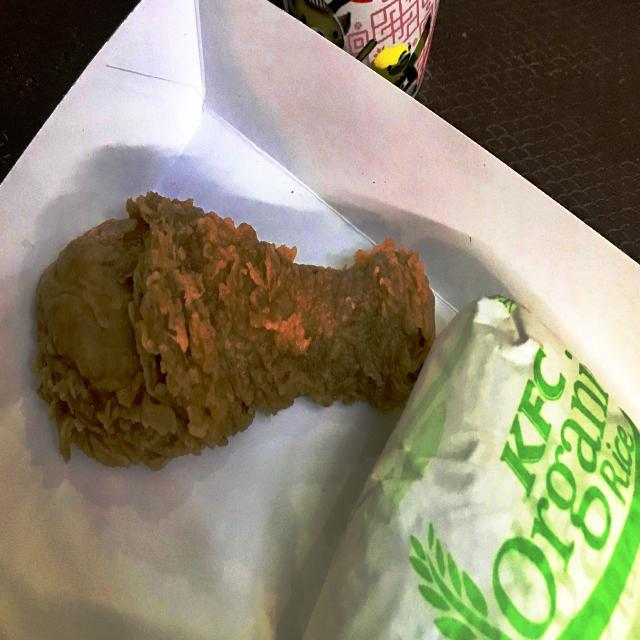fried_chicken: (35, 157, 446, 469)
